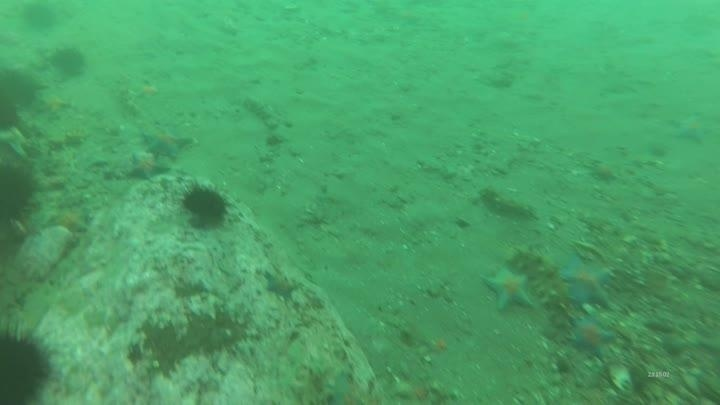echinus: (0, 322, 58, 405), (0, 158, 40, 239), (180, 181, 232, 230), (1, 65, 41, 113), (50, 44, 89, 80), (19, 2, 60, 35), (0, 95, 23, 135)
holothurian: (506, 243, 572, 317), (478, 184, 538, 222), (241, 95, 284, 132)
starfish: (558, 252, 616, 309), (481, 263, 536, 314), (566, 312, 618, 360), (139, 124, 195, 161), (390, 371, 444, 403), (46, 202, 93, 236), (670, 111, 715, 146), (324, 369, 366, 404), (125, 151, 170, 182), (261, 267, 300, 302), (34, 88, 73, 121), (0, 123, 32, 162), (587, 160, 621, 184), (130, 79, 161, 102)
